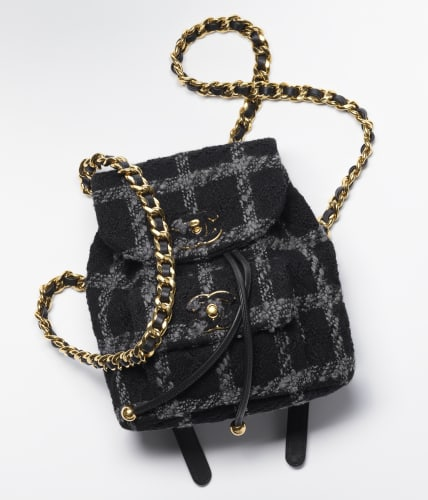channel: (61, 121, 368, 453), (137, 189, 187, 335), (187, 289, 259, 353)
